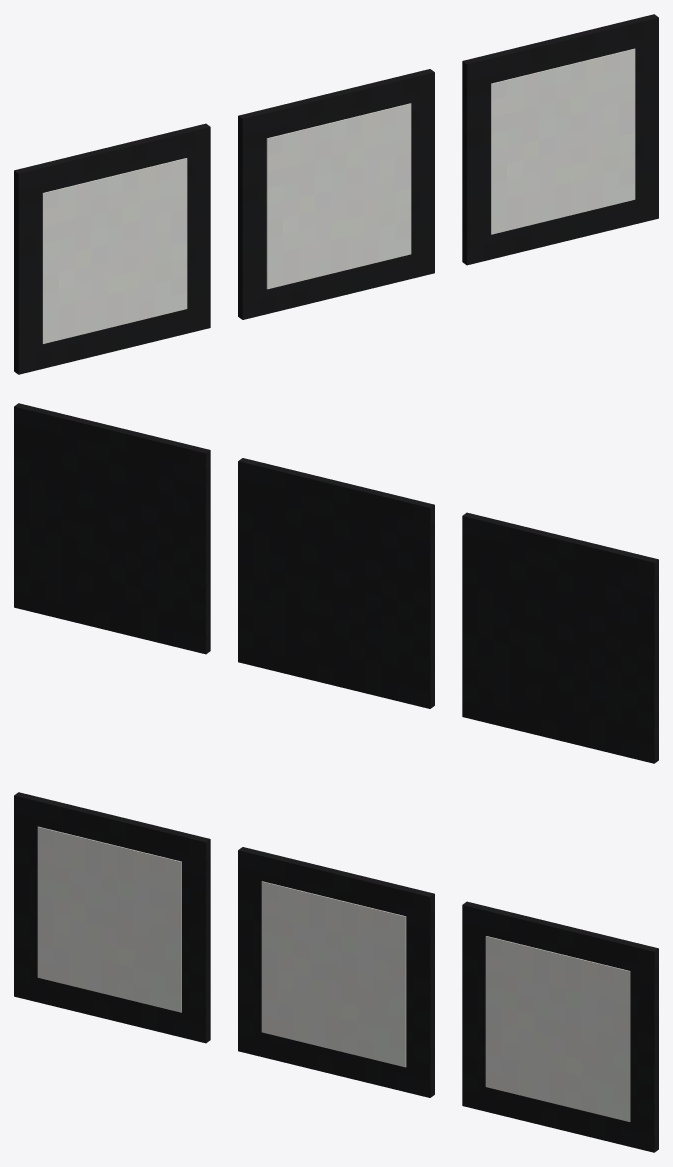
Rendered from wall_frames.glb.
3 renders of one model, top to bottom at view 1: azimuth 30°, elevation 25°; view 2: azimuth 150°, elevation 25°; view 3: azimuth 330°, elevation 25°, orthographic.
Parts seen in each view (by area): view 1: picture_2, picture_1, picture_3, frame_2_border, frame_3_border, frame_1_border; view 2: frame_1_border, frame_3_border, frame_2_border; view 3: picture_2, picture_3, picture_1, frame_1_border, frame_2_border, frame_3_border.
Boxes of the visible parts, x1=… form: picture_2: x1=266, y1=103, x2=411, y2=289; picture_1: x1=42, y1=158, x2=187, y2=343; picture_3: x1=491, y1=48, x2=635, y2=234; frame_2_border: x1=238, y1=69, x2=434, y2=319; frame_3_border: x1=462, y1=14, x2=658, y2=265; frame_1_border: x1=14, y1=123, x2=210, y2=374; frame_1_border: x1=462, y1=512, x2=658, y2=763; frame_3_border: x1=14, y1=403, x2=210, y2=654; frame_2_border: x1=238, y1=458, x2=434, y2=708; picture_2: x1=261, y1=881, x2=406, y2=1067; picture_3: x1=485, y1=936, x2=630, y2=1121; picture_1: x1=37, y1=826, x2=181, y2=1012; frame_1_border: x1=14, y1=792, x2=210, y2=1043; frame_2_border: x1=238, y1=847, x2=434, y2=1097; frame_3_border: x1=462, y1=901, x2=658, y2=1152.
Bounding box in the file's own units: 2.5 × 0.75 × 0.0344.
1 material, 1 textured.
